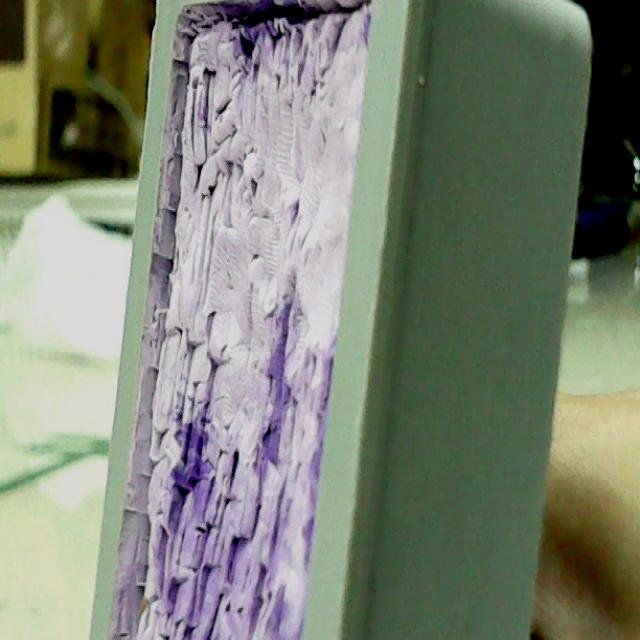block: (85, 0, 591, 640)
